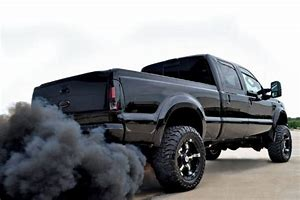smoke: (1, 107, 144, 200)
